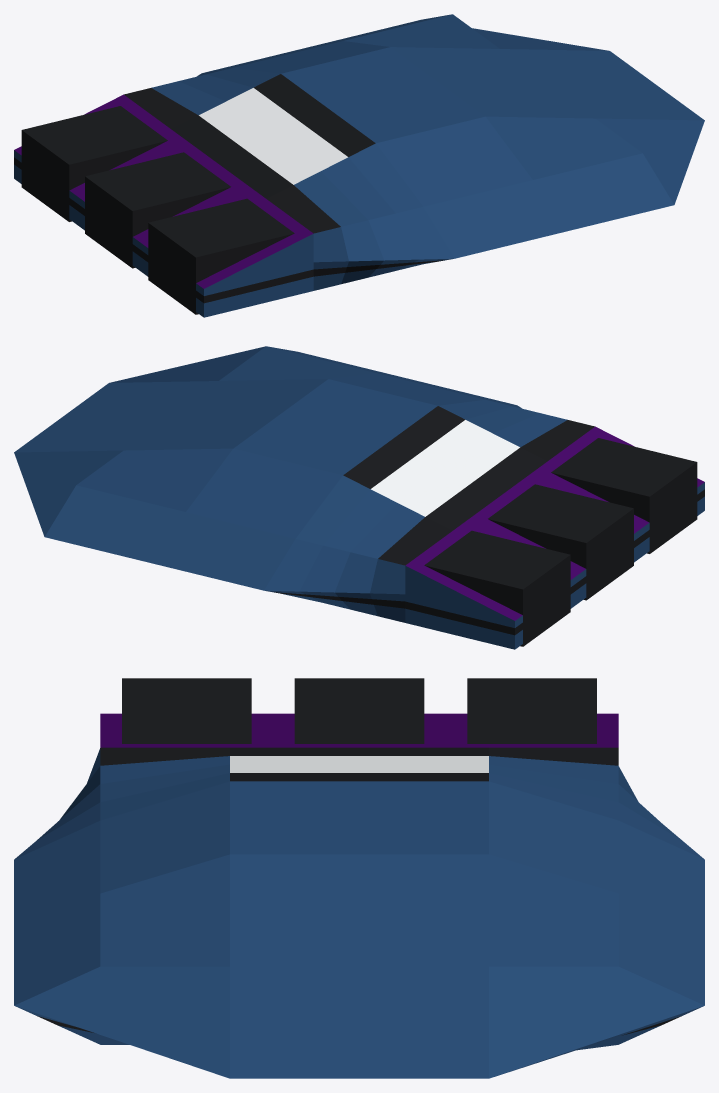
File: enemy_spawner_ship.gltf
3 renders of one model, top to bottom at view 1: azimuth 30°, elevation 25°; view 2: azimuth 150°, elevation 25°; view 3: azimuth 270°, elevation 25°, orthographic. The views are drawn at different scales.
Visible parts, largest first — view 1: spawner_ship, spawner_ship.spawner_two, spawner_ship_spawner_three, spawner_ship_spawner_one; view 2: spawner_ship, spawner_ship_spawner_three, spawner_ship.spawner_two, spawner_ship_spawner_one; view 3: spawner_ship, spawner_ship_spawner_one, spawner_ship_spawner_three, spawner_ship.spawner_two.
Part boxes in pixels (<box>): spawner_ship: <box>14,14,704,317</box>; spawner_ship.spawner_two: <box>148,198,294,314</box>; spawner_ship_spawner_three: <box>21,106,167,221</box>; spawner_ship_spawner_one: <box>85,152,230,268</box>; spawner_ship: <box>14,346,704,649</box>; spawner_ship_spawner_three: <box>424,530,570,646</box>; spawner_ship.spawner_two: <box>551,438,697,553</box>; spawner_ship_spawner_one: <box>488,484,633,600</box>; spawner_ship: <box>14,713,704,1078</box>; spawner_ship_spawner_one: <box>294,678,424,743</box>; spawner_ship_spawner_three: <box>467,678,596,743</box>; spawner_ship.spawner_two: <box>122,678,251,743</box>.
Bounding box in the file's own units: 20.01 × 3.1 × 16.
